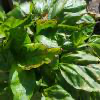Bell_pepper leaf spot: (11, 42, 66, 71), (61, 51, 99, 91), (34, 23, 81, 44), (31, 16, 62, 41), (10, 2, 32, 21)
